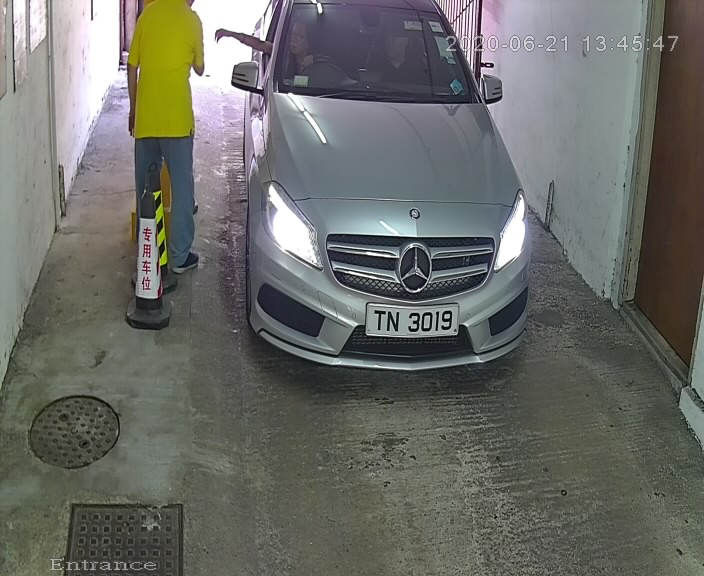privatecar: (217, 1, 545, 412)
